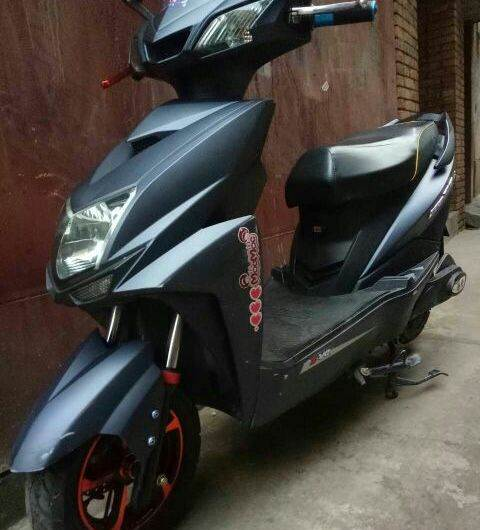电动车: (1, 1, 472, 524)
